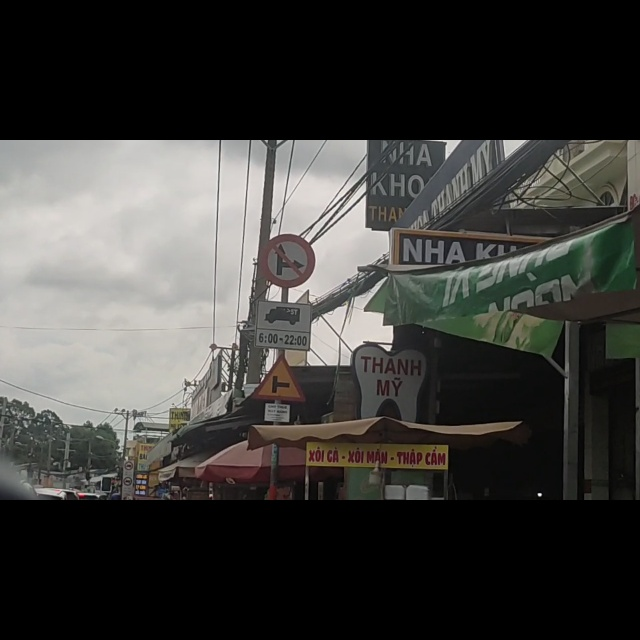bien_cam: (261, 167, 315, 263), (255, 286, 311, 370), (254, 382, 304, 461)
